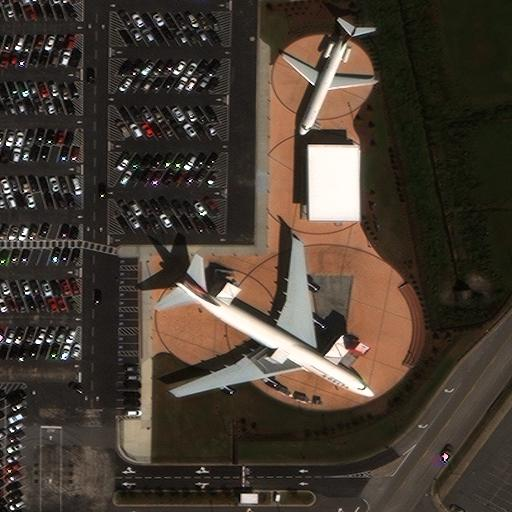Large Civil Transport: (175, 242, 373, 396)
Medium Civil Transport: (282, 25, 374, 135)
